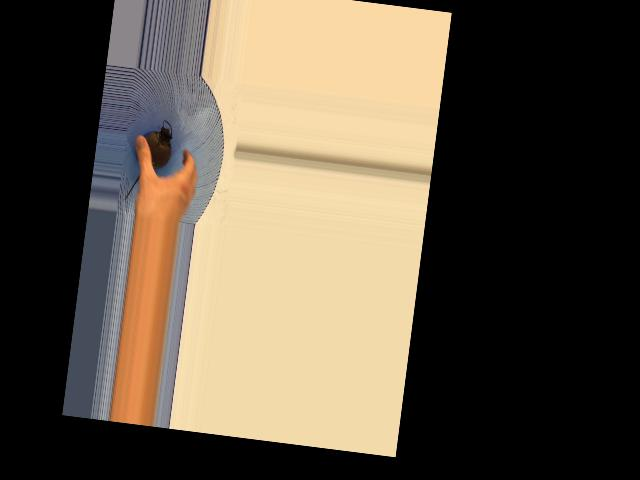beet: (124, 116, 174, 204)
